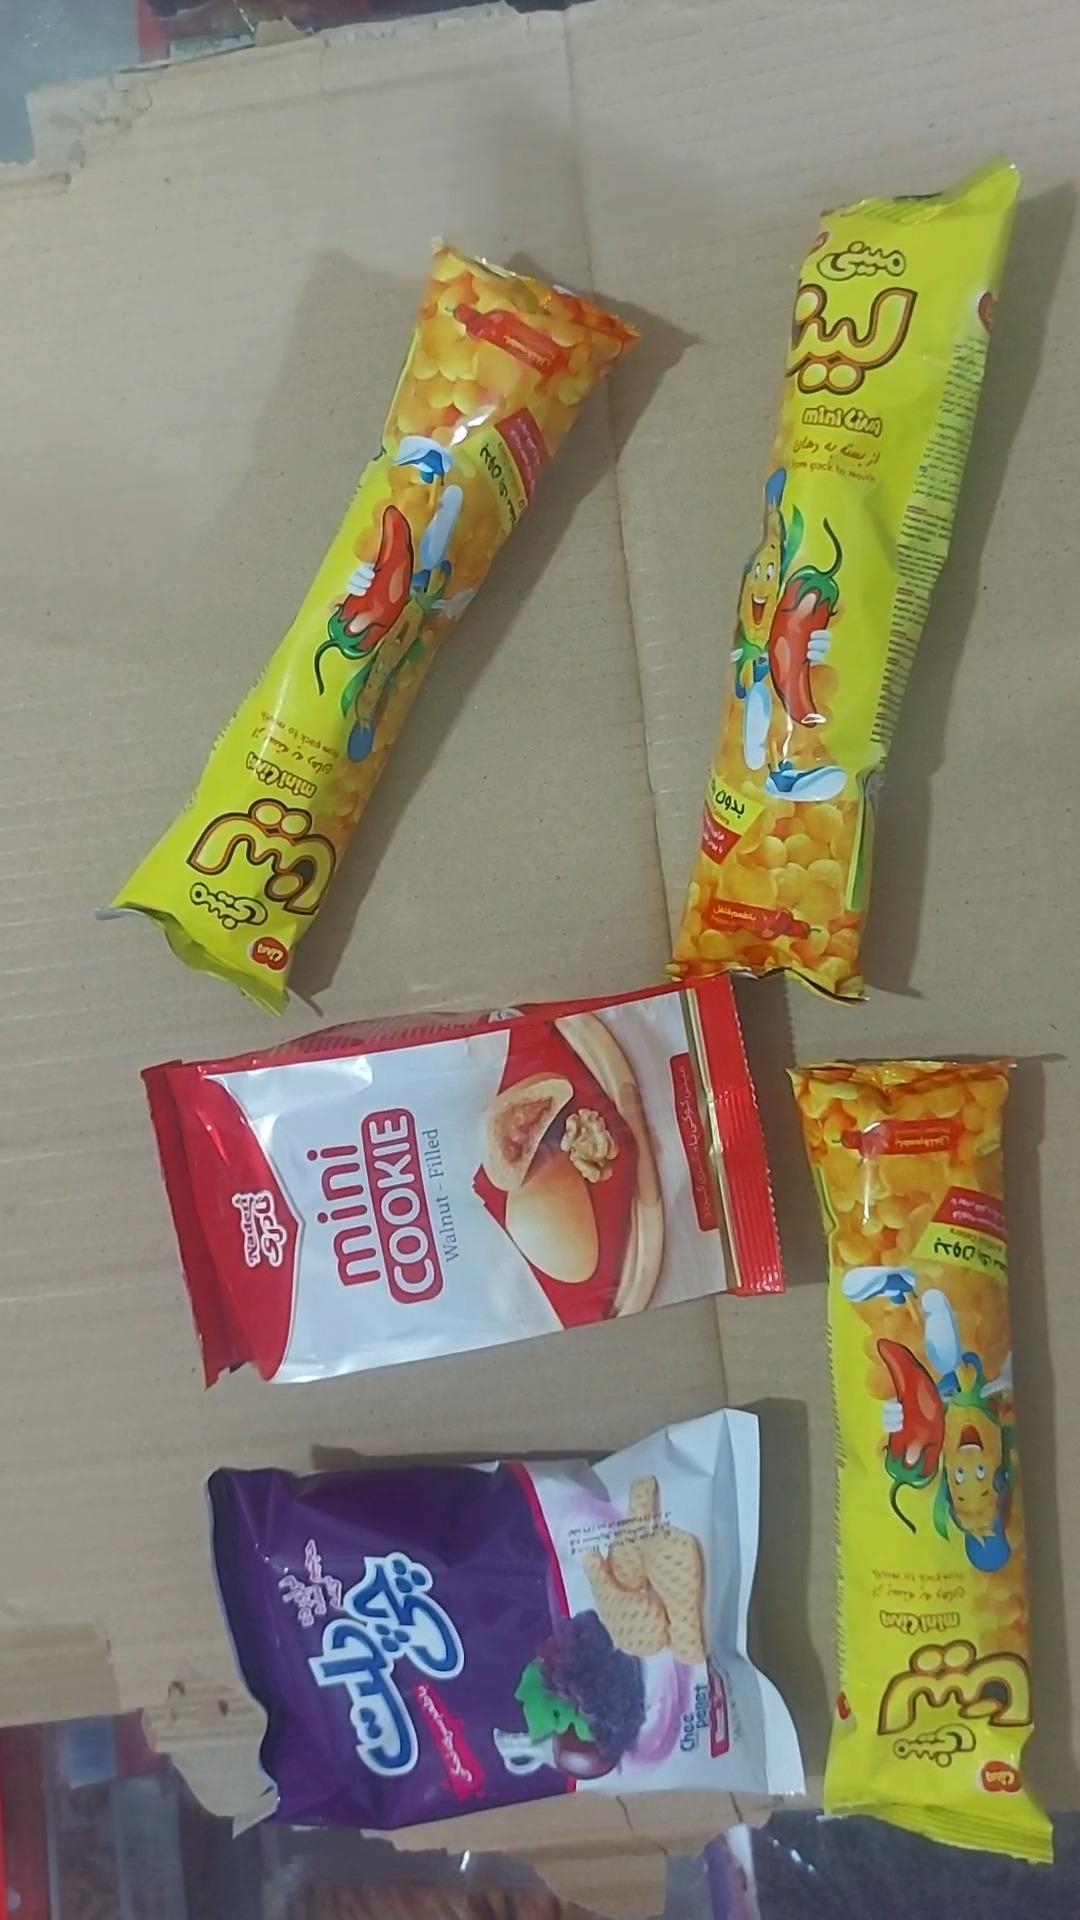Chee pellet vinegar: (204, 1408, 807, 1833)
Mini Lina: (94, 244, 640, 1017), (667, 160, 1025, 1005), (787, 1060, 1054, 1869)
Naderi mini cookie: (138, 976, 785, 1391)
